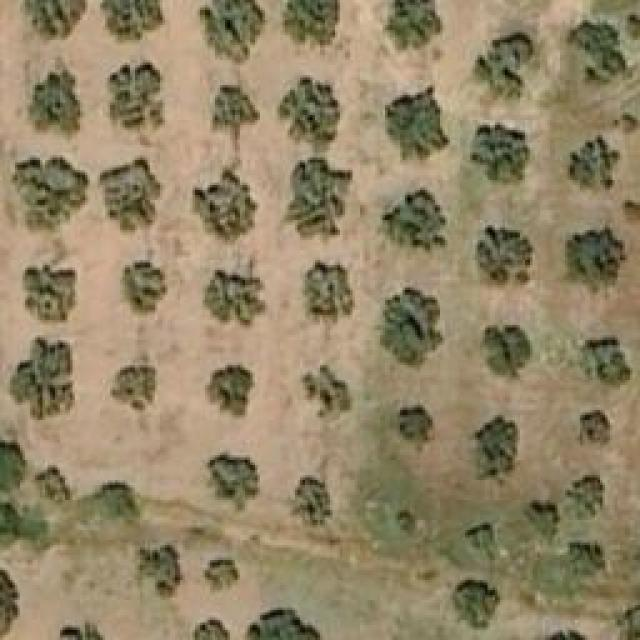Tree: (13, 155, 88, 233), (7, 338, 75, 421), (283, 158, 353, 238), (375, 287, 443, 365), (192, 170, 260, 243), (277, 78, 345, 151), (378, 188, 448, 258), (385, 85, 450, 158), (100, 152, 160, 230), (198, 0, 268, 65), (567, 23, 635, 88), (565, 227, 628, 295), (108, 63, 168, 133), (475, 225, 533, 295), (475, 32, 533, 100), (203, 270, 268, 330), (470, 123, 530, 186), (23, 265, 78, 325), (300, 263, 355, 323), (475, 418, 520, 488), (300, 365, 353, 420), (30, 72, 80, 130), (100, 0, 167, 42), (388, 0, 443, 50), (205, 363, 255, 418), (285, 0, 345, 45), (568, 138, 621, 188), (135, 543, 183, 598), (120, 263, 168, 316), (485, 325, 533, 378), (25, 0, 88, 40), (247, 607, 322, 640), (210, 85, 260, 133), (217, 455, 265, 505), (582, 338, 630, 388), (288, 475, 333, 528), (452, 580, 500, 628), (110, 368, 155, 413), (522, 500, 560, 545), (398, 405, 433, 453), (93, 482, 136, 520), (570, 475, 605, 518), (0, 563, 18, 638), (202, 558, 240, 593), (35, 467, 70, 505), (578, 410, 611, 448), (465, 522, 498, 560), (570, 543, 605, 578), (0, 442, 20, 490), (192, 617, 232, 640), (53, 625, 108, 640)
